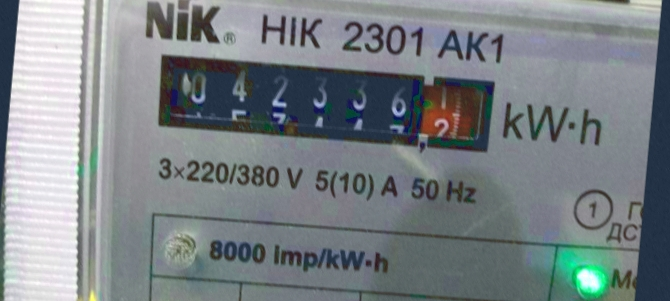0: (185, 68, 209, 105)
1: (434, 82, 449, 112)
2: (266, 72, 290, 109), (428, 116, 449, 138)
3: (345, 75, 369, 113), (307, 72, 330, 111)
4: (227, 65, 249, 104)
6: (384, 82, 409, 118)
screen: (145, 40, 504, 165)
